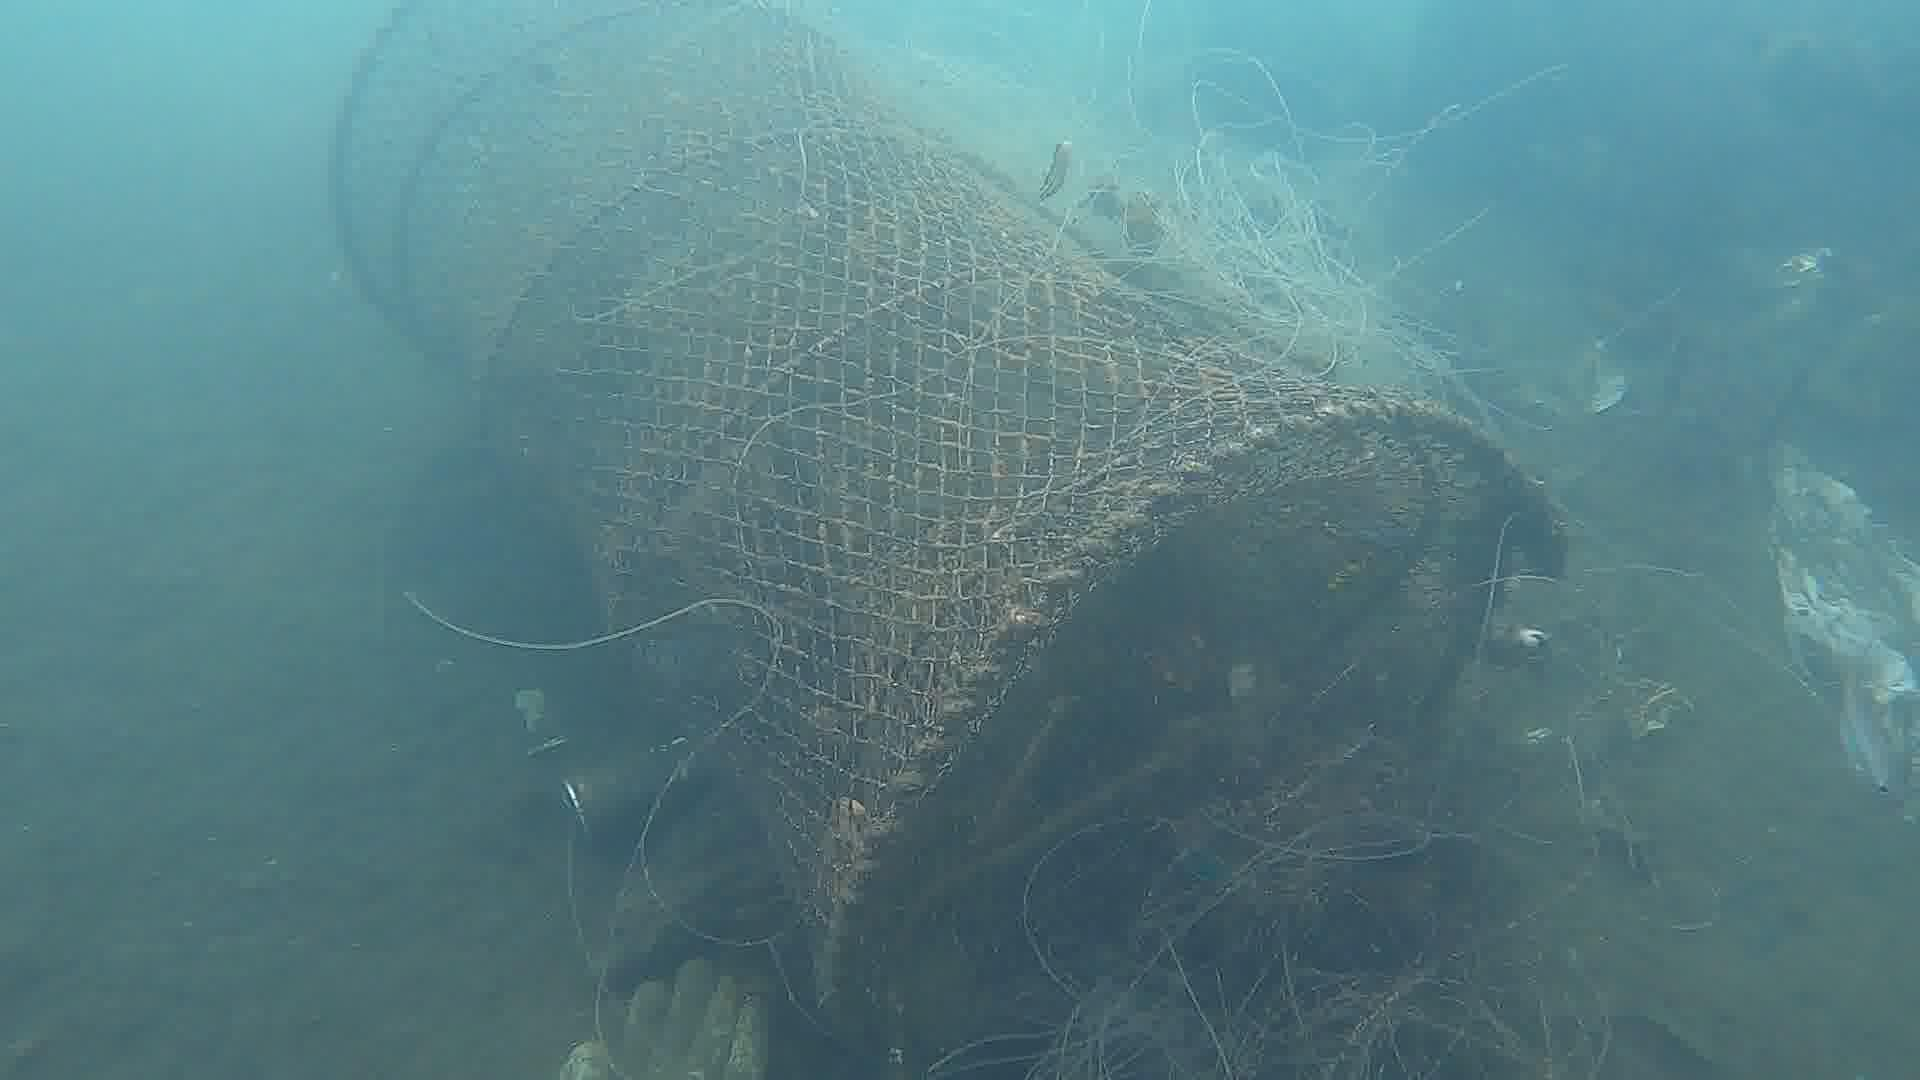spring fish trap: (326, 0, 1581, 1080)
